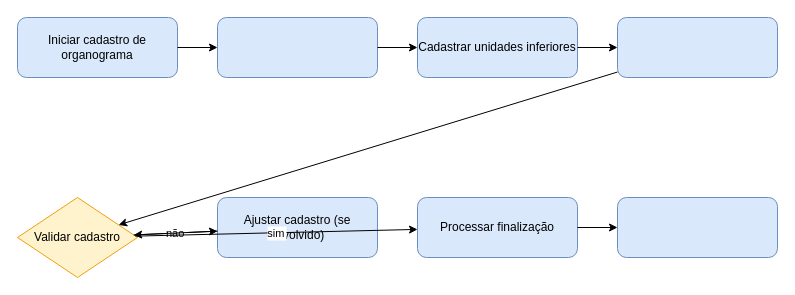
The diagram is 795 pixels wide and 295 high, and some of its shapes have lost their labels. Here are the shapes that lost their labels. From the top down, the centre of each, then its label:
At point (297, 47): "Cadastrar escola (diretoria)".
At point (697, 47): "Enviar para validação".
At point (697, 227): "Organograma cadastrado".
